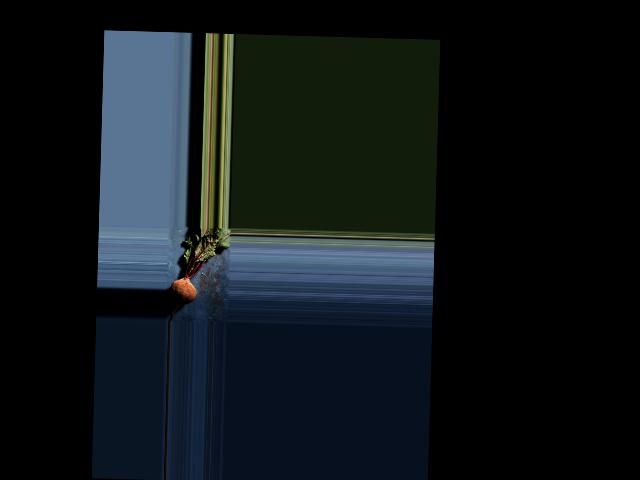beet: (168, 225, 230, 323)
